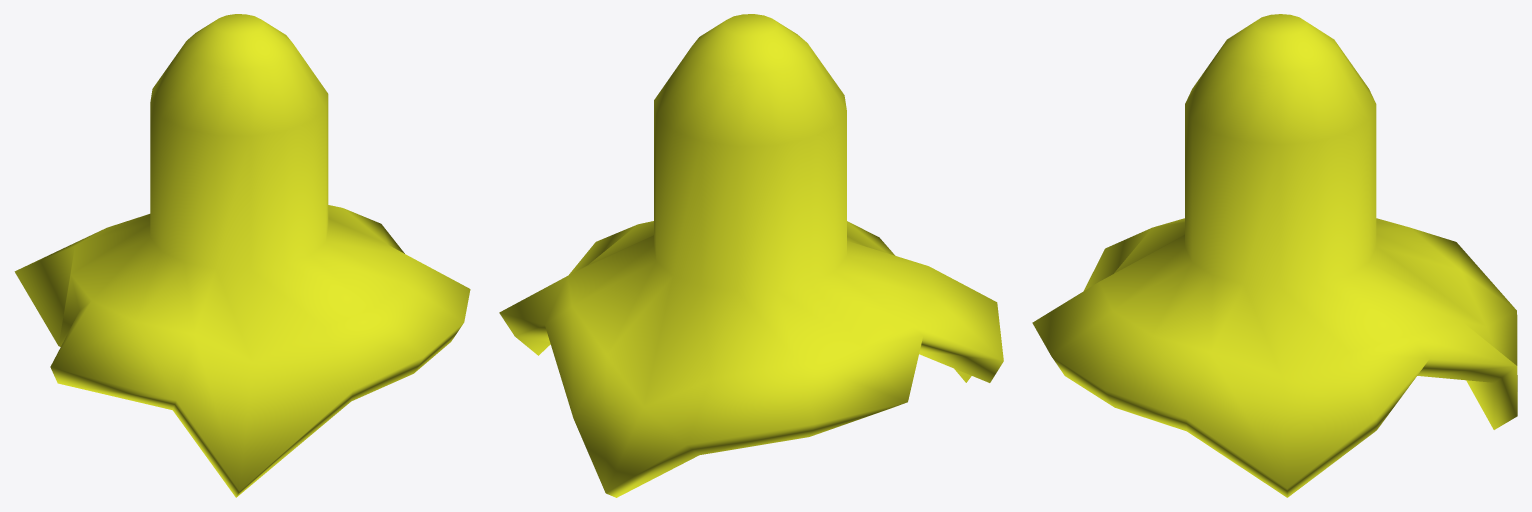
The model's file is broken bulb.fbx.
The picture shows the model from 3 angles, left to right: view 1: azimuth 30°, elevation 25°; view 2: azimuth 150°, elevation 25°; view 3: azimuth 270°, elevation 25°; orthographic projection. The views are drawn at different scales.
Parts seen in each view (by area): view 1: broken_bulb; view 2: broken_bulb; view 3: broken_bulb.
Boxes of the visible parts, left/top/right/bottom form: broken_bulb: left=14, top=14, right=470, bottom=497; broken_bulb: left=499, top=14, right=1003, bottom=497; broken_bulb: left=1032, top=14, right=1517, bottom=497.
Bounding box in the file's own units: 48.79 × 41.86 × 45.8.
